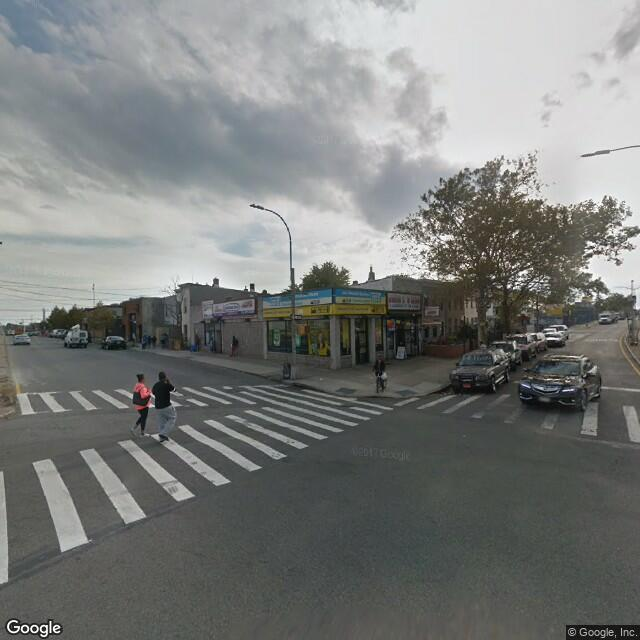litter: (318, 377, 323, 379)
